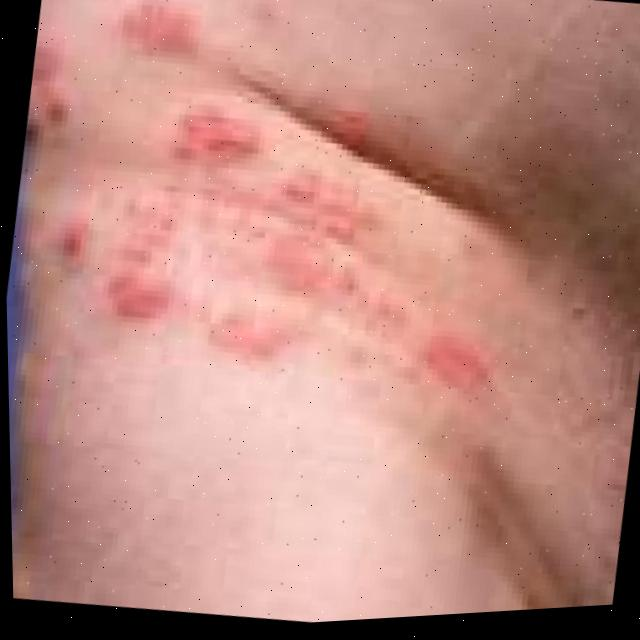Shingles: (12, 0, 511, 418)
